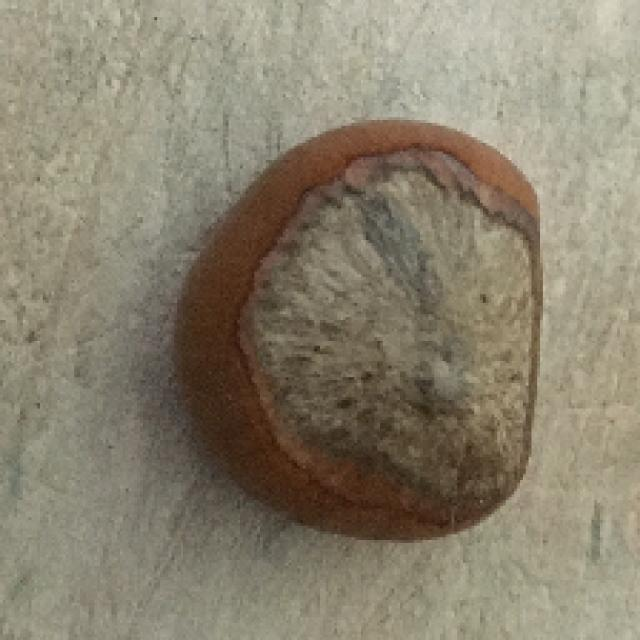qualityHazelnut: (168, 118, 540, 546)
